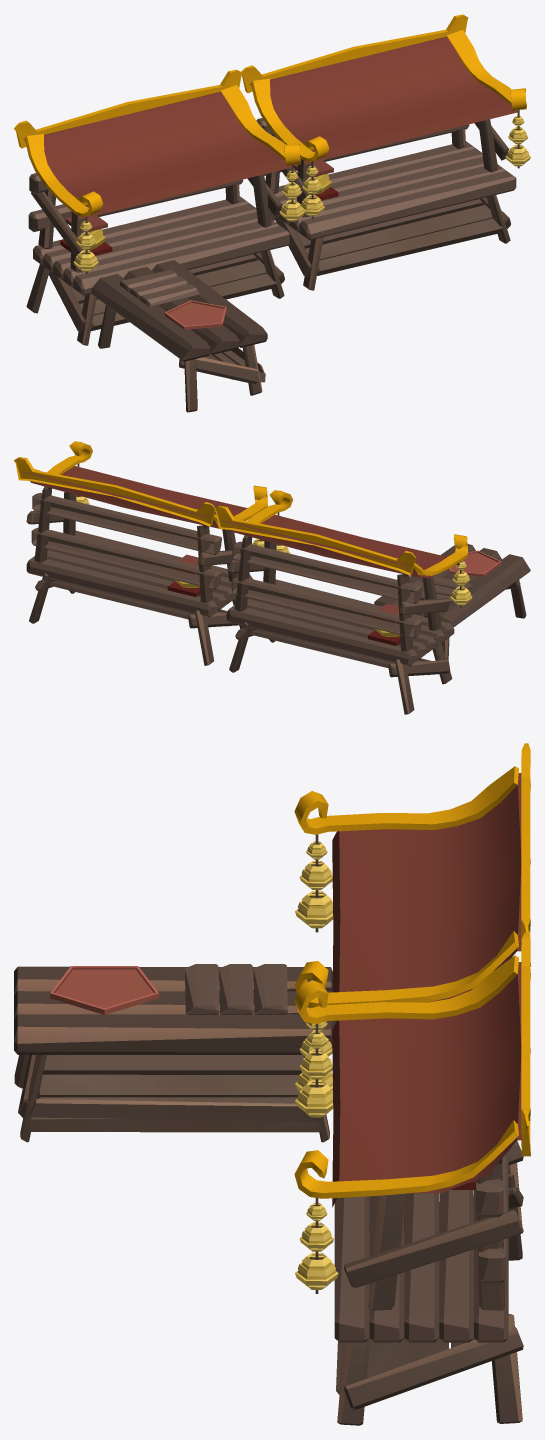
The model's file is shop_3lvl.fbx.
The picture shows the model from 3 angles, top to bottom: view 1: azimuth 30°, elevation 25°; view 2: azimuth 150°, elevation 25°; view 3: azimuth 270°, elevation 25°; orthographic projection. The views are drawn at different scales.
Parts seen in each view (by area): view 1: shop_3lvl; view 2: shop_3lvl; view 3: shop_3lvl.
Boxes of the visible parts, x1,y1,x2,y2 form: shop_3lvl: [14, 14, 530, 412]; shop_3lvl: [14, 441, 530, 714]; shop_3lvl: [14, 743, 530, 1425].
Size of the model in its own units: 6.44 by 2.54 by 3.7.
